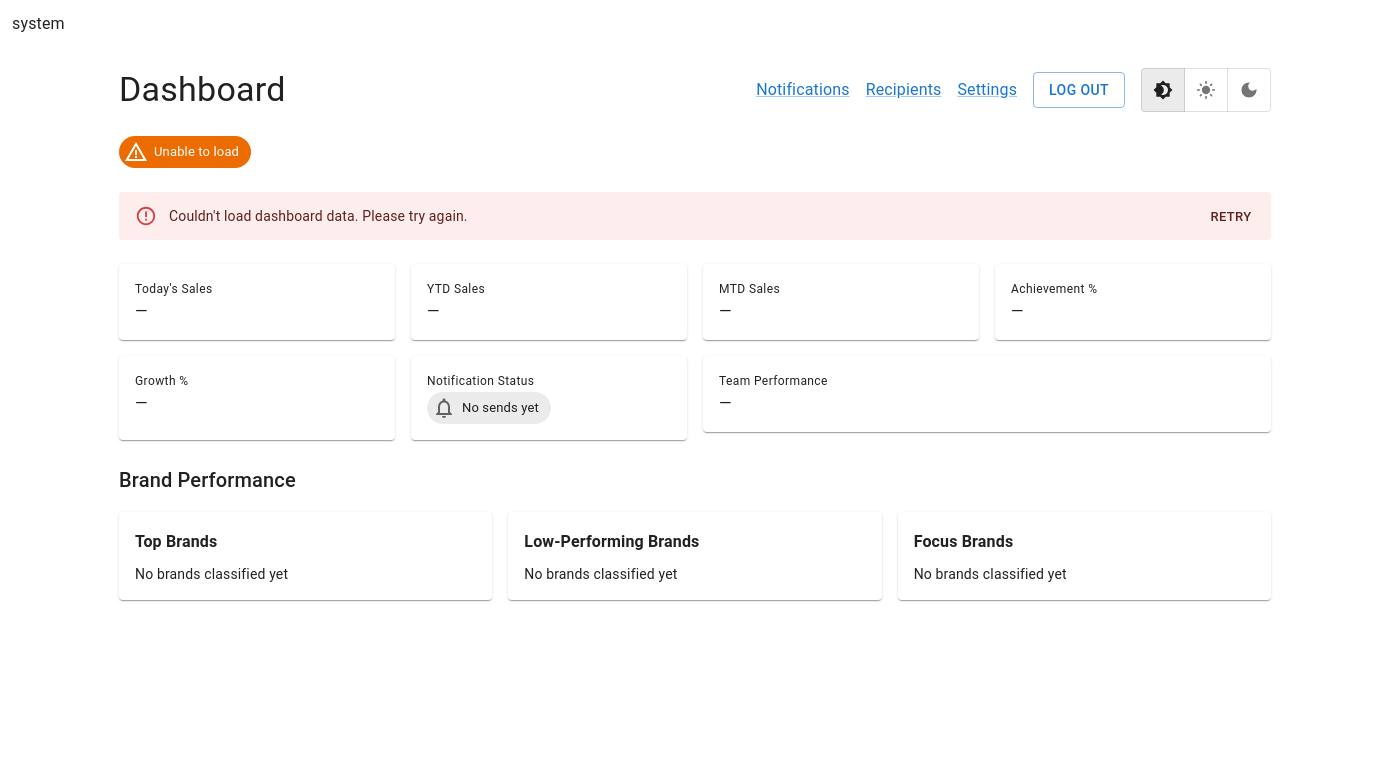
Test: DashboardPage › shows an error banner with a Retry button when /dashboard/summary fails, and Retry refetches successfully
Expected: the text "Couldn't load dashboard data. Please try again." is shown, x1=169 y1=208 x2=468 y2=224
Expected: the text "Unable to load" is shown, x1=154 y1=144 x2=239 y2=159
Step 1. Click the button "Retry" → (1231, 217), box x1=1199 y1=202 x2=1263 y2=233
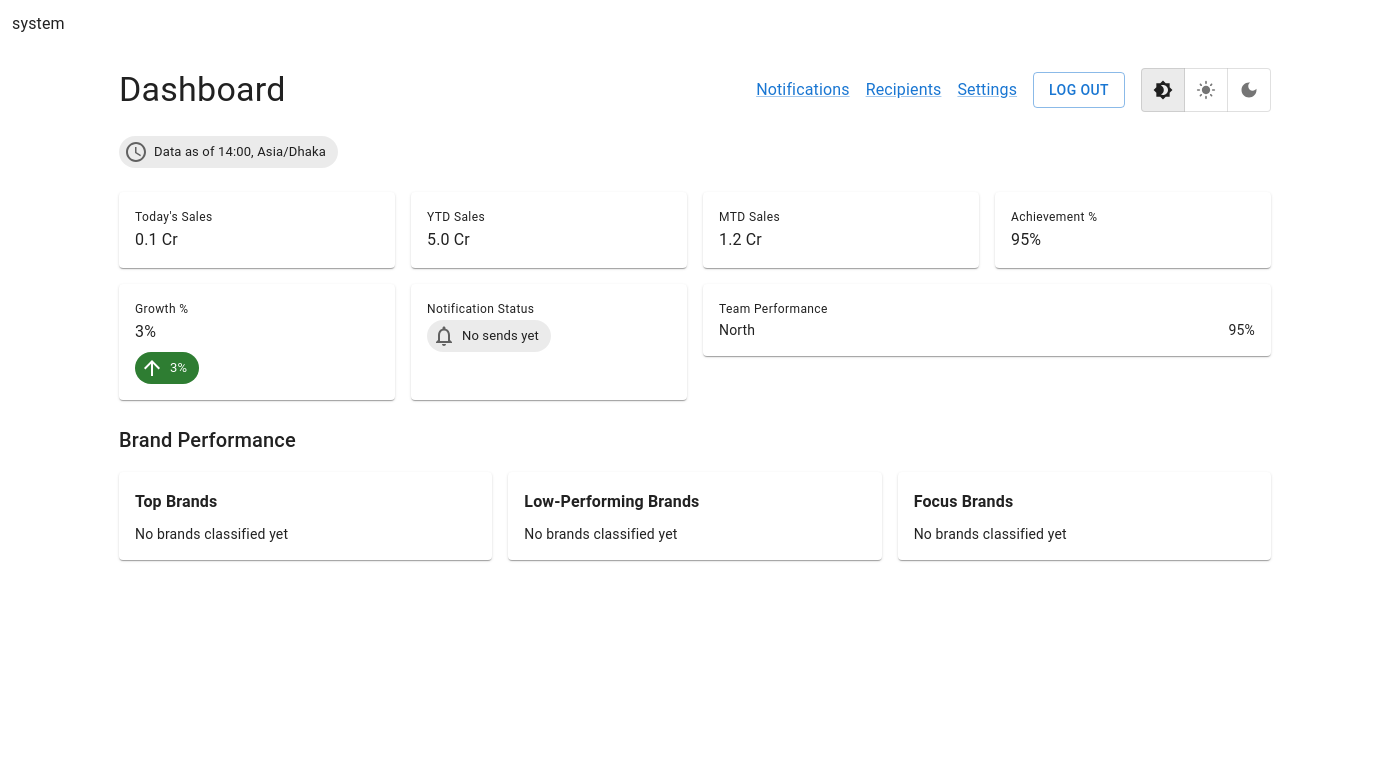
Expected: the text "Couldn't load dashboard data. Please try again." is gone
Expected: the text "North" is shown, x1=719 y1=320 x2=755 y2=340
